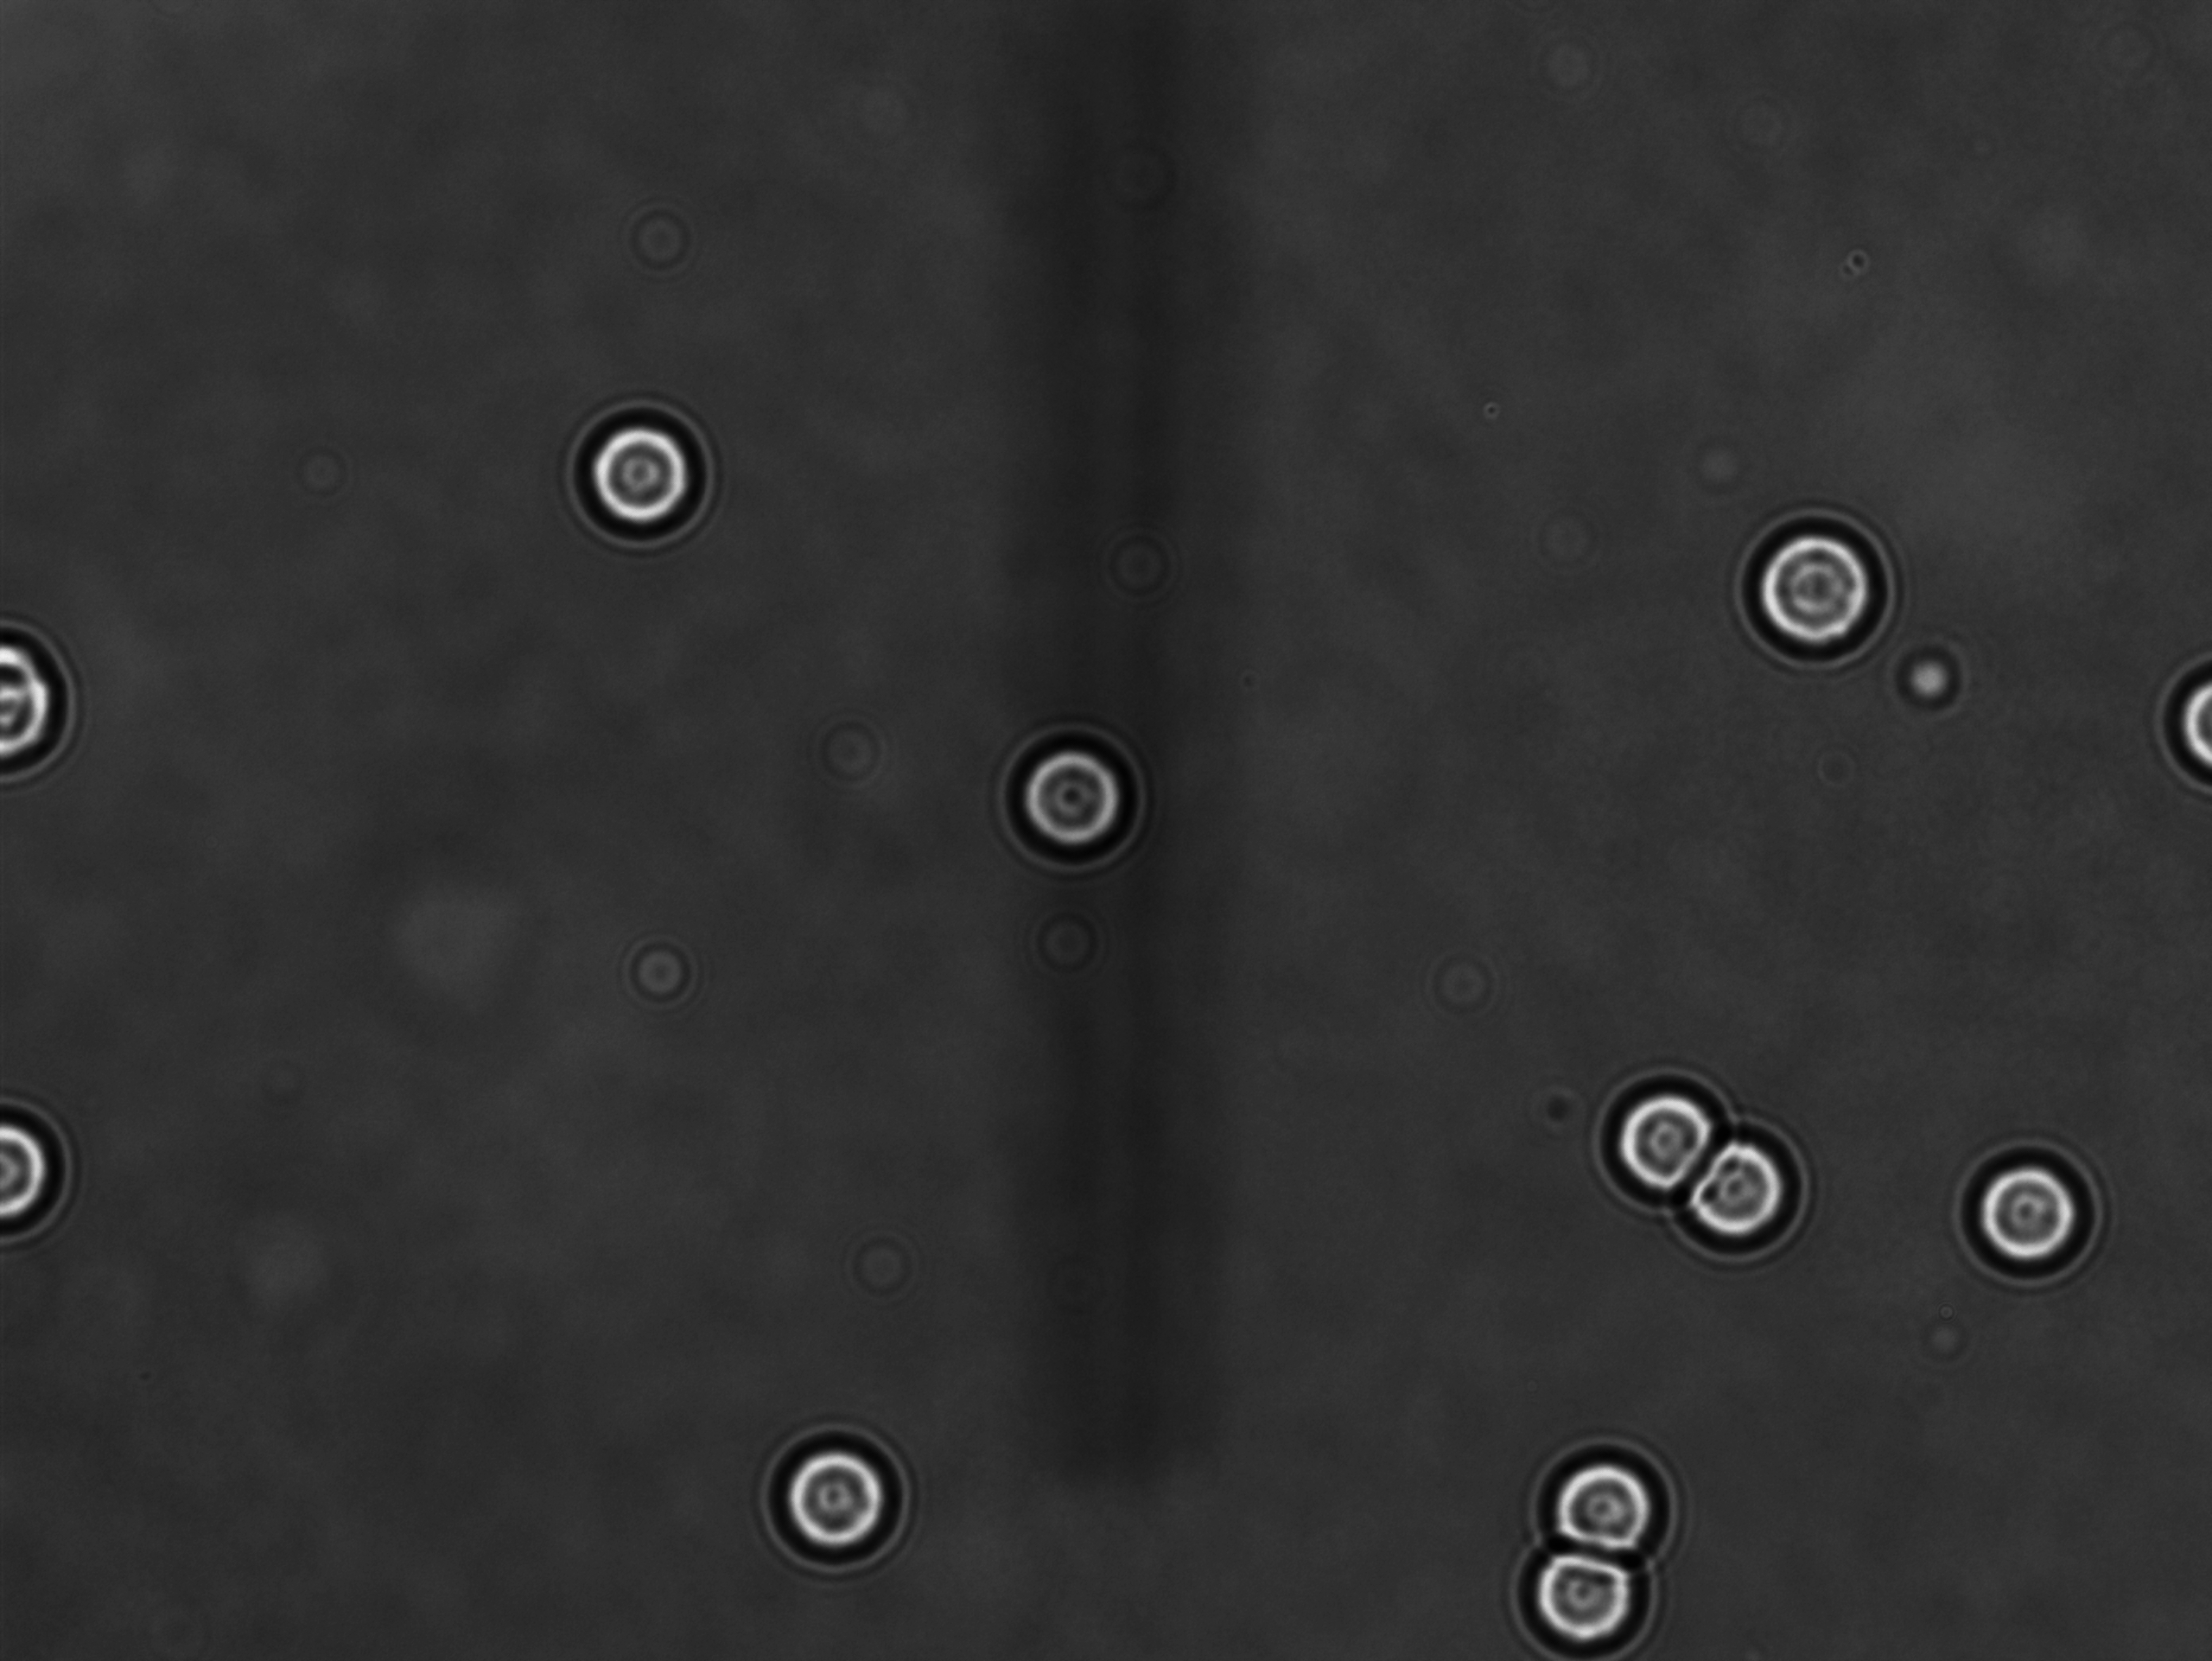depth:20: (1724, 499, 1898, 680), (989, 715, 1164, 886), (1936, 1132, 2113, 1291), (1574, 1043, 1738, 1213), (750, 1415, 921, 1576), (1519, 1417, 1690, 1574), (1664, 1118, 1833, 1275), (556, 393, 720, 551), (1483, 1535, 1671, 1661)
